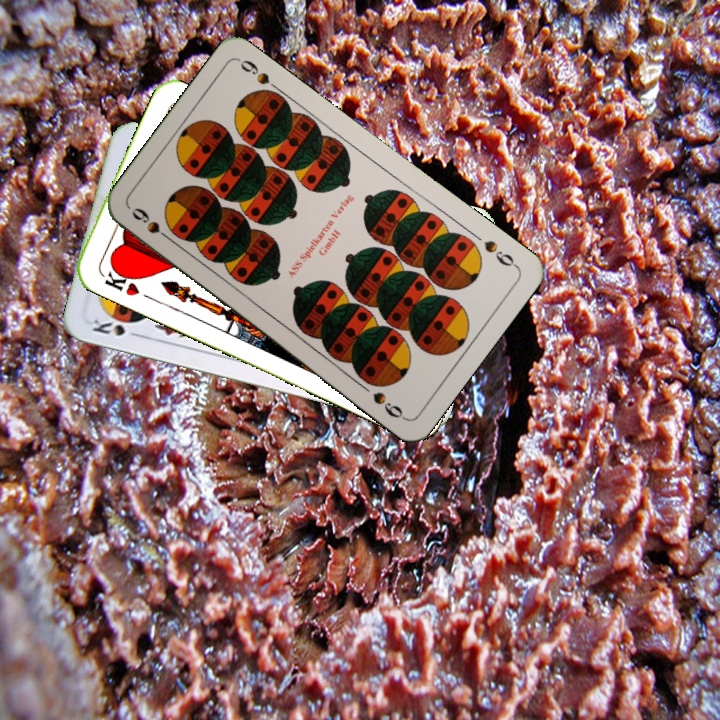HK: (96, 261, 143, 299)
S9: (127, 203, 177, 246), (479, 236, 521, 271)
SK: (88, 315, 145, 341)
